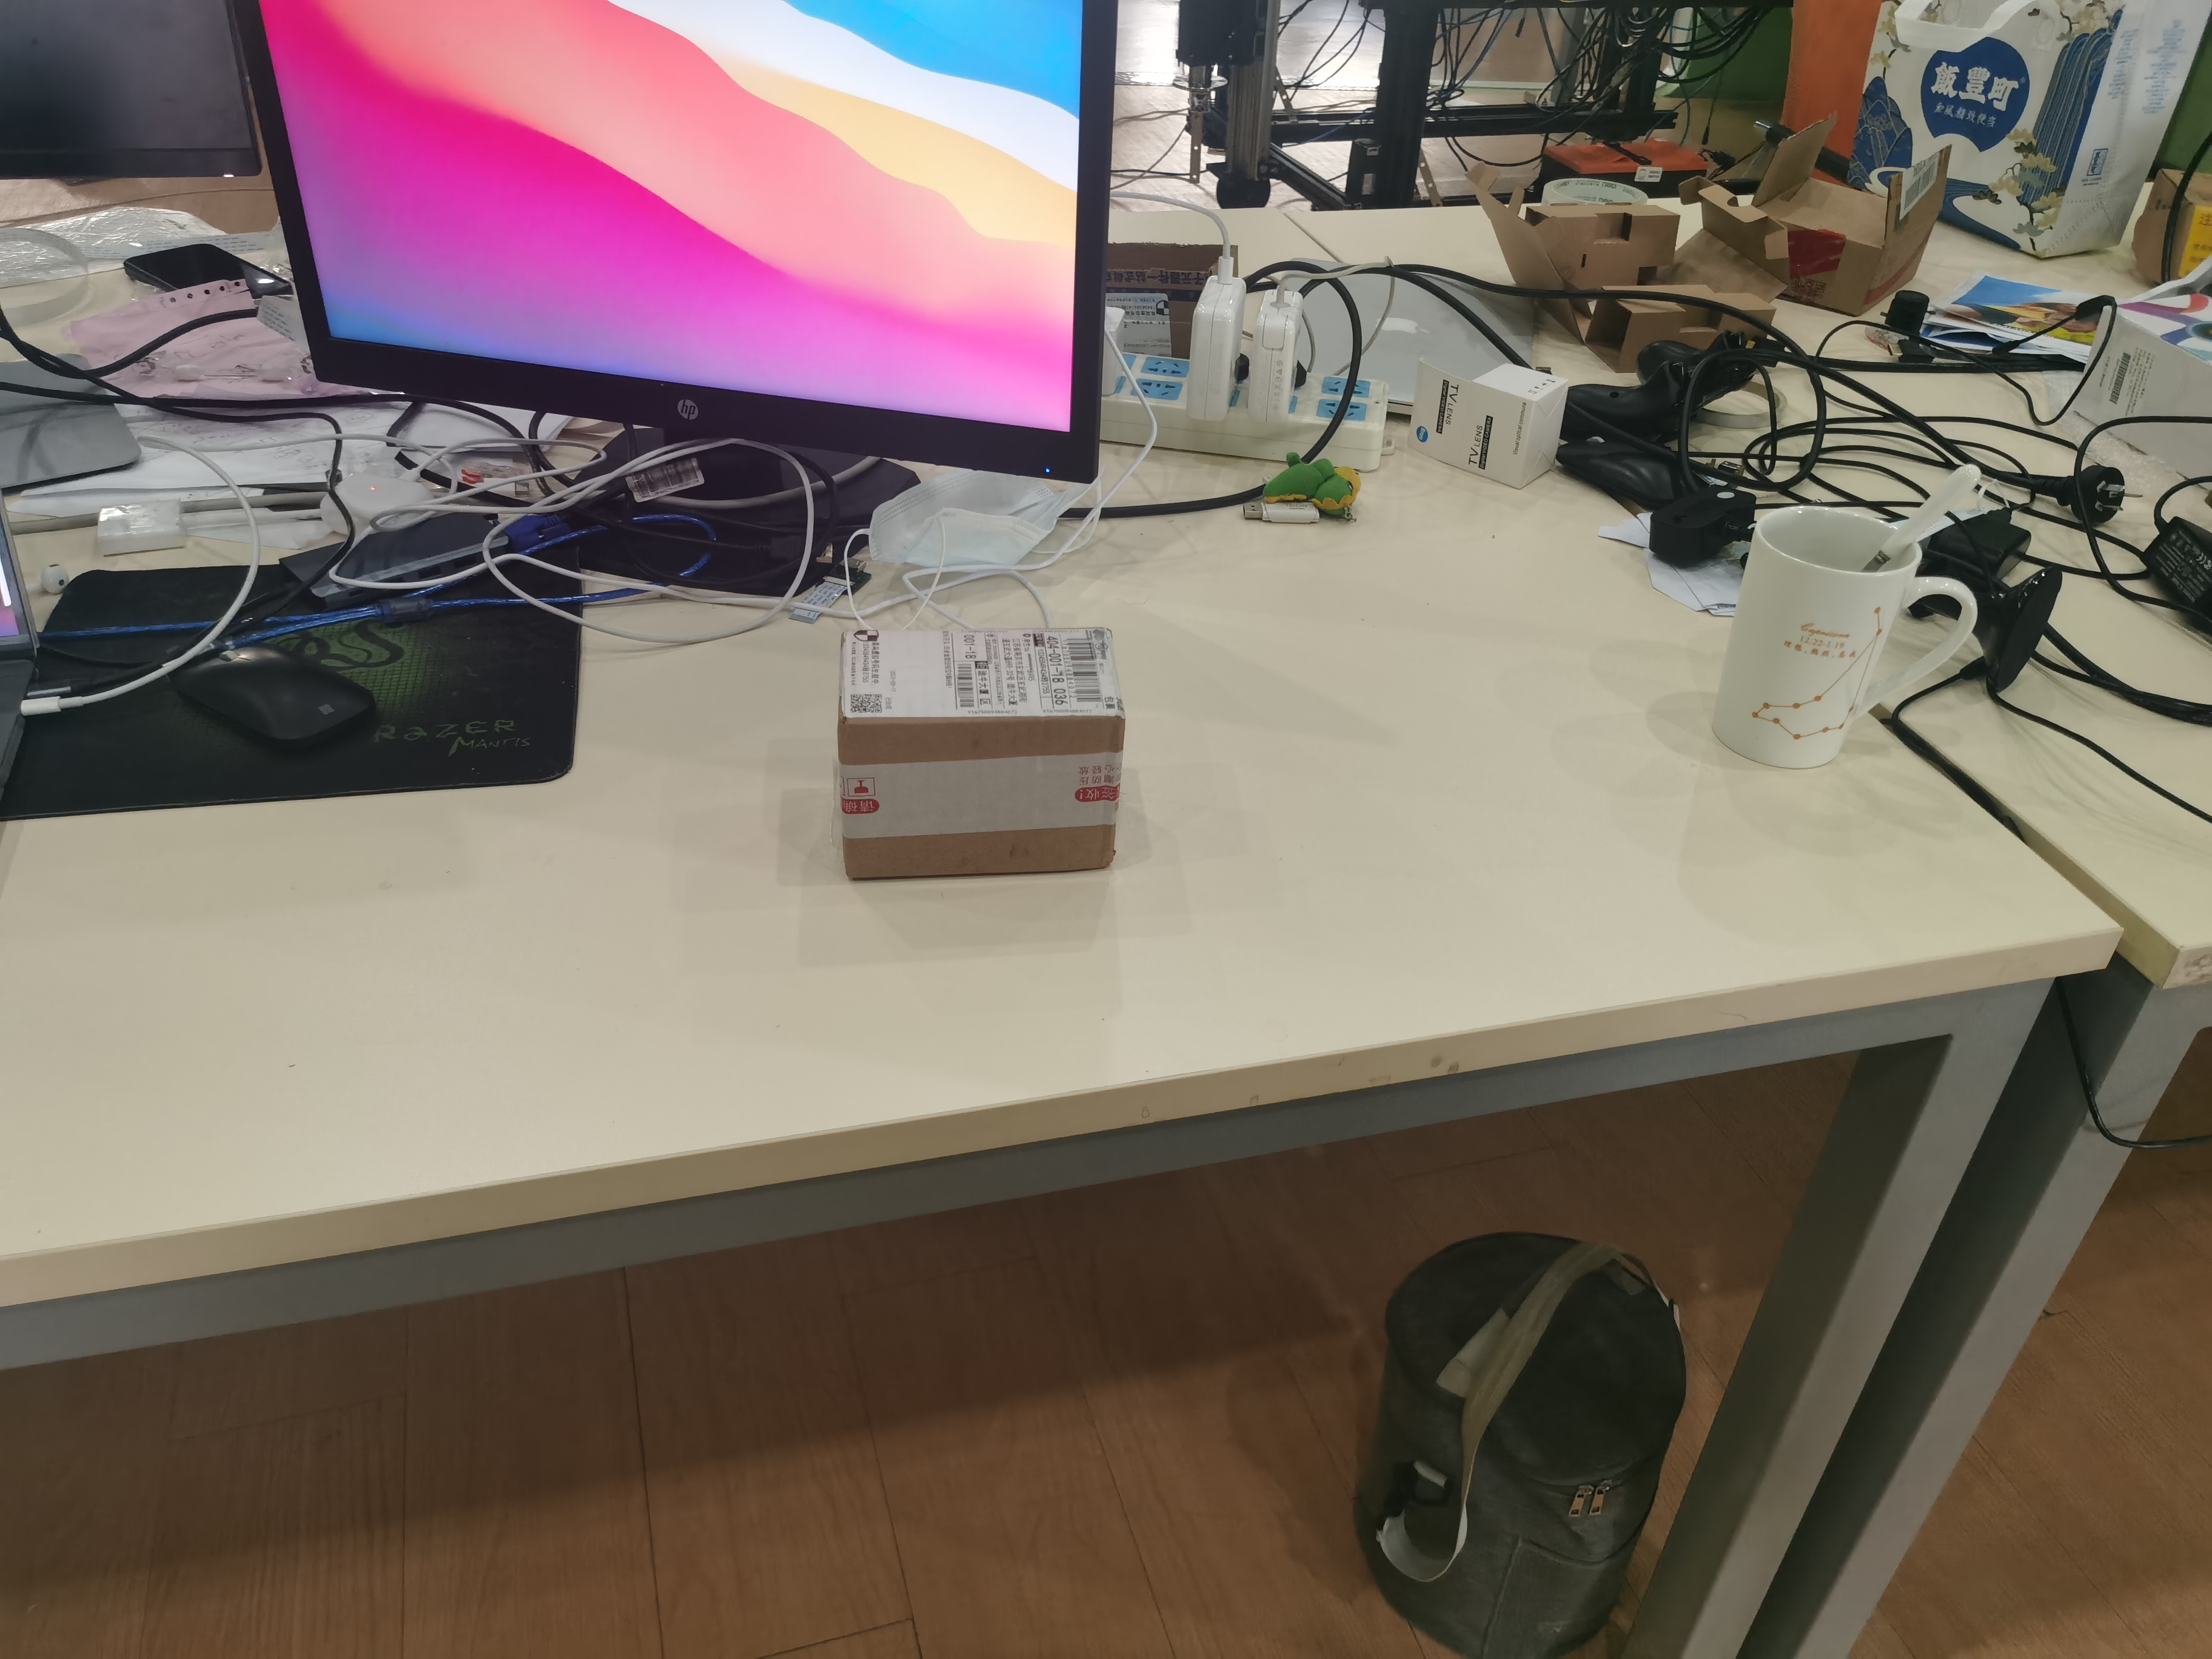box: (820, 610, 1144, 880)
